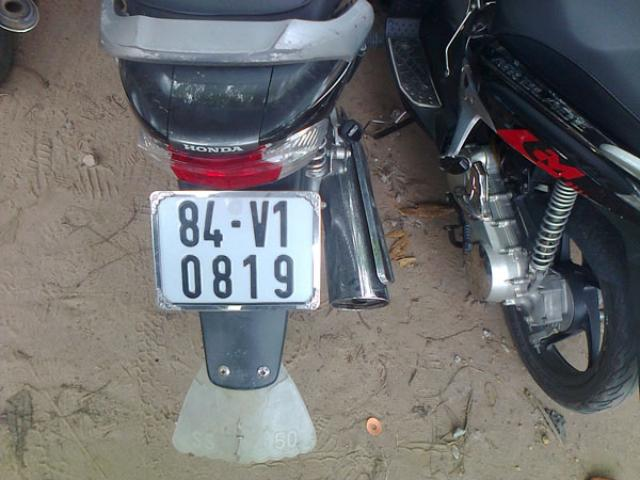plate: (157, 192, 313, 310)
